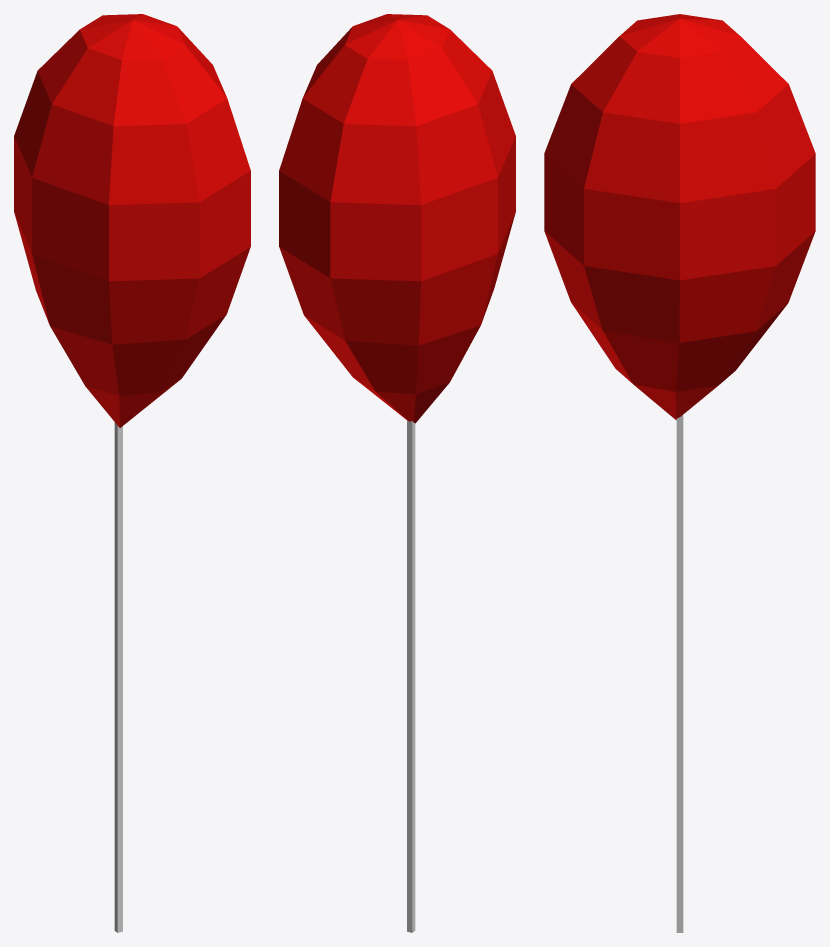
Rendered from bloonred.fbx.
The picture shows the model from 3 angles, left to right: view 1: azimuth 30°, elevation 25°; view 2: azimuth 150°, elevation 25°; view 3: azimuth 270°, elevation 25°; orthographic projection.
Visible parts, largest first — view 1: bloon, Cube; view 2: bloon, Cube; view 3: bloon, Cube.
Boxes of the visible parts, bbox=[...] form: bloon: bbox=[14, 14, 250, 427]; Cube: bbox=[114, 422, 122, 932]; bloon: bbox=[279, 14, 515, 423]; Cube: bbox=[407, 420, 415, 932]; bloon: bbox=[544, 14, 815, 419]; Cube: bbox=[676, 415, 683, 932].
Bounding box in the file's own units: 48.12 × 208 × 55.63.
